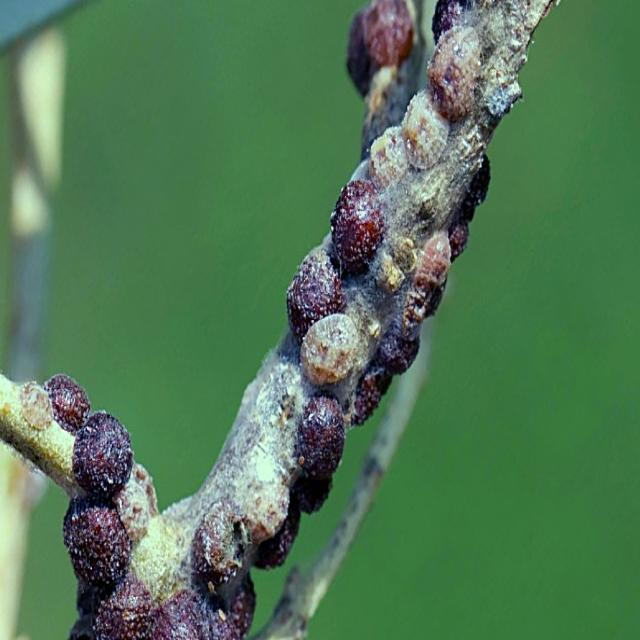BlackScale: (253, 0, 551, 568), (43, 374, 208, 639), (192, 496, 274, 636), (346, 0, 416, 96)
